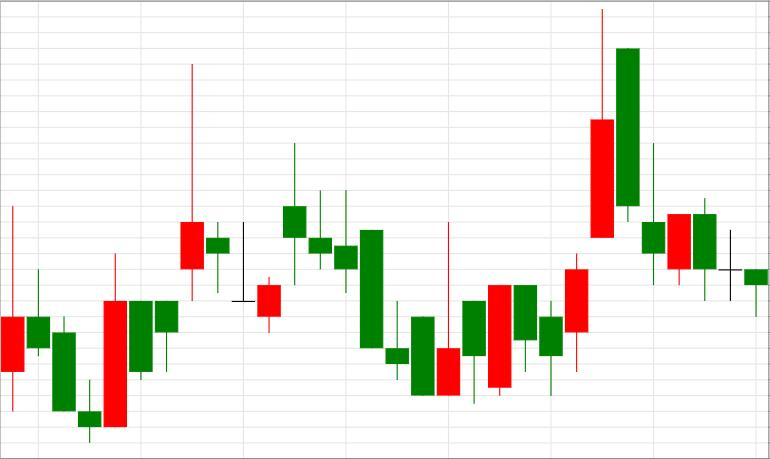inverse_hammer_rise: (284, 144, 460, 395)
shooting_star_fall: (104, 63, 204, 428)
